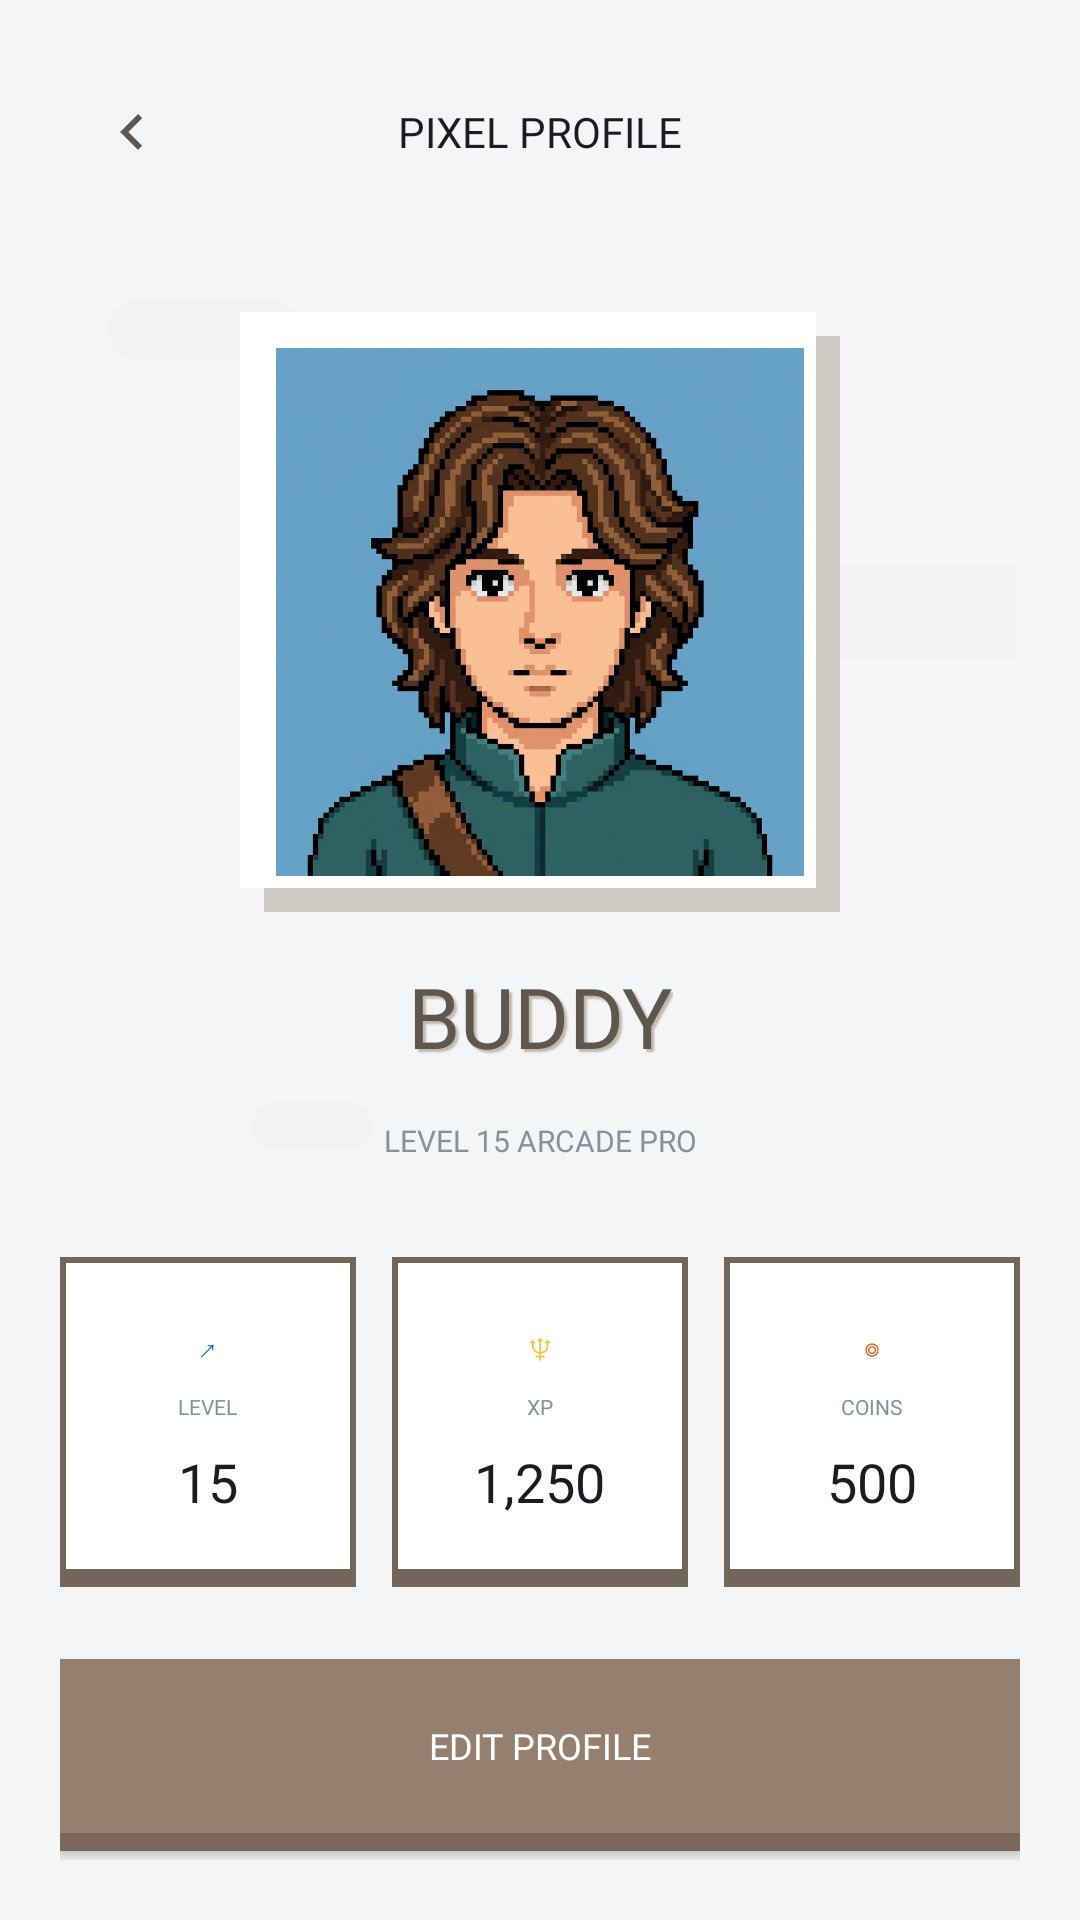

Point at icon controls on the screen. Image size 1080px×1920px, points as point (x, y).
Back: point (131, 132)
